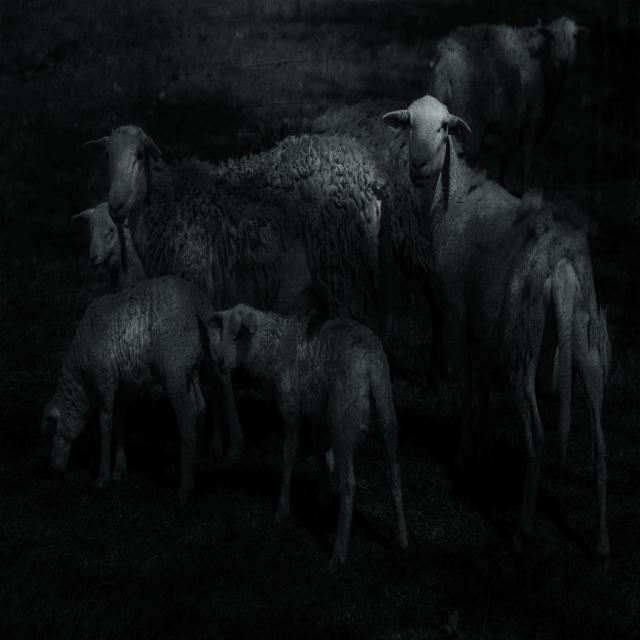Goat: (383, 92, 613, 562), (83, 121, 388, 471)
